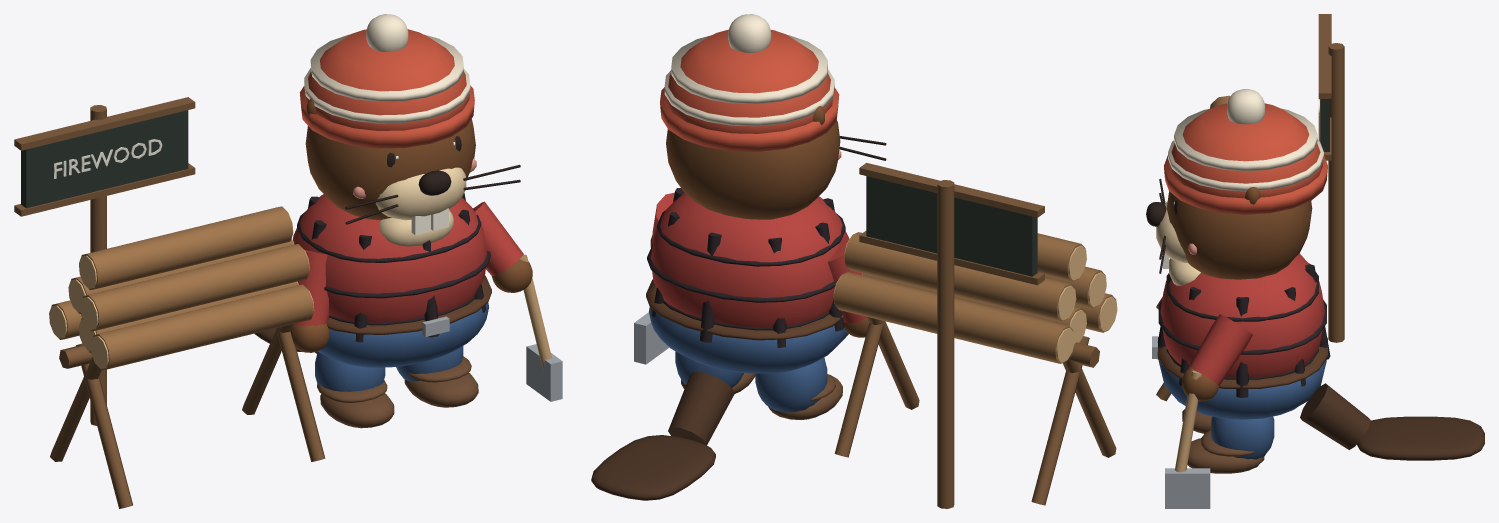
The model's file is buster.glb.
3 renders of one model, left to right at view 1: azimuth 30°, elevation 25°; view 2: azimuth 150°, elevation 25°; view 3: azimuth 270°, elevation 25°, orthographic. The views are drawn at different scales.
Parts seen in each view (by area): view 1: Buster_Stall, Buster_Body, Buster_Head, Buster_ArmL, Buster_ArmR; view 2: Buster_Stall, Buster_Body, Buster_Head, Buster_Tail, Buster_ArmL, Buster_ArmR; view 3: Buster_Head, Buster_Body, Buster_Tail, Buster_Stall, Buster_ArmL.
Part boxes in pixels (x1,y1,x2,y2): Buster_Stall: [14, 97, 325, 508]; Buster_Body: [293, 193, 491, 428]; Buster_Head: [299, 14, 520, 235]; Buster_ArmL: [473, 201, 562, 401]; Buster_ArmR: [290, 249, 329, 352]; Buster_Stall: [833, 162, 1117, 508]; Buster_Body: [646, 188, 849, 419]; Buster_Head: [660, 14, 886, 219]; Buster_Tail: [591, 372, 734, 500]; Buster_ArmL: [634, 192, 674, 364]; Buster_ArmR: [828, 237, 868, 337]; Buster_Head: [1146, 89, 1327, 279]; Buster_Body: [1152, 253, 1330, 473]; Buster_Tail: [1300, 383, 1484, 460]; Buster_Stall: [1156, 14, 1344, 401]; Buster_ArmL: [1165, 314, 1252, 508].
Size of the model in its own units: 1.54 by 1.23 by 1.05.
